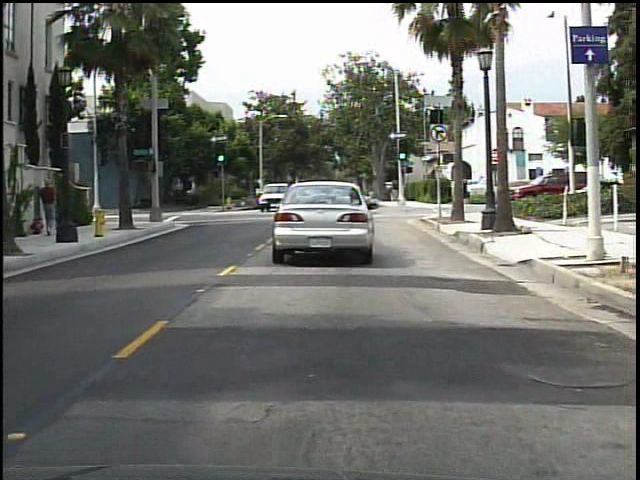person: (36, 177, 64, 242)
